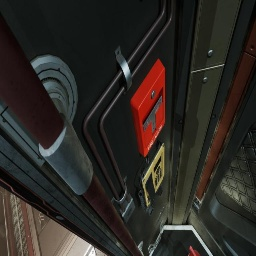EmergencyPhone ,: (138, 138, 164, 210)
FireAlarm ,: (130, 59, 165, 157)
FireExtinguisher ]: (187, 246, 200, 256)
NitrogenTank ,: (0, 224, 6, 241)
